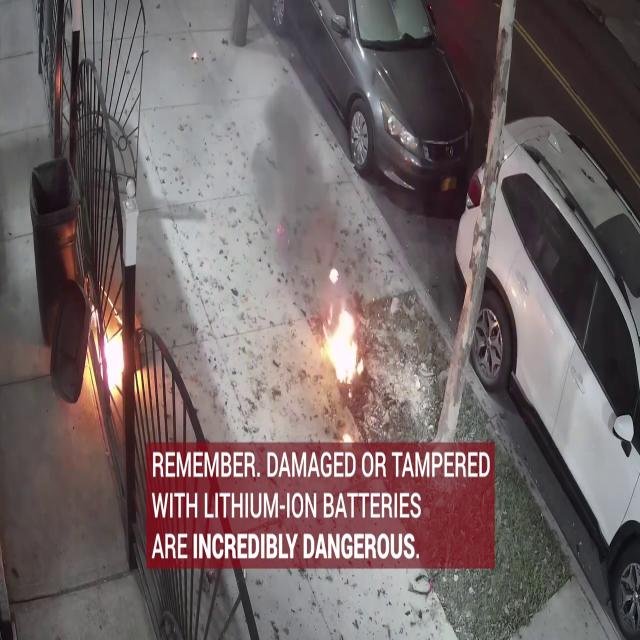Fire: (319, 291, 367, 390), (101, 310, 128, 408)
Smoke: (258, 83, 360, 310)
